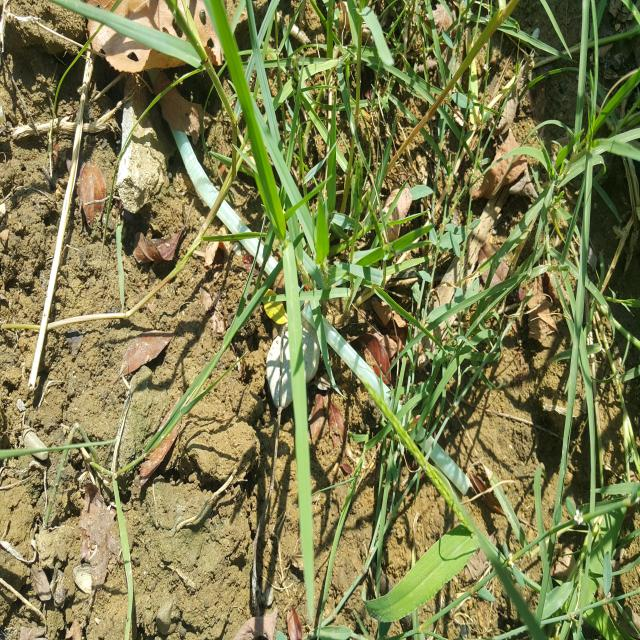litter: (146, 82, 481, 508)
